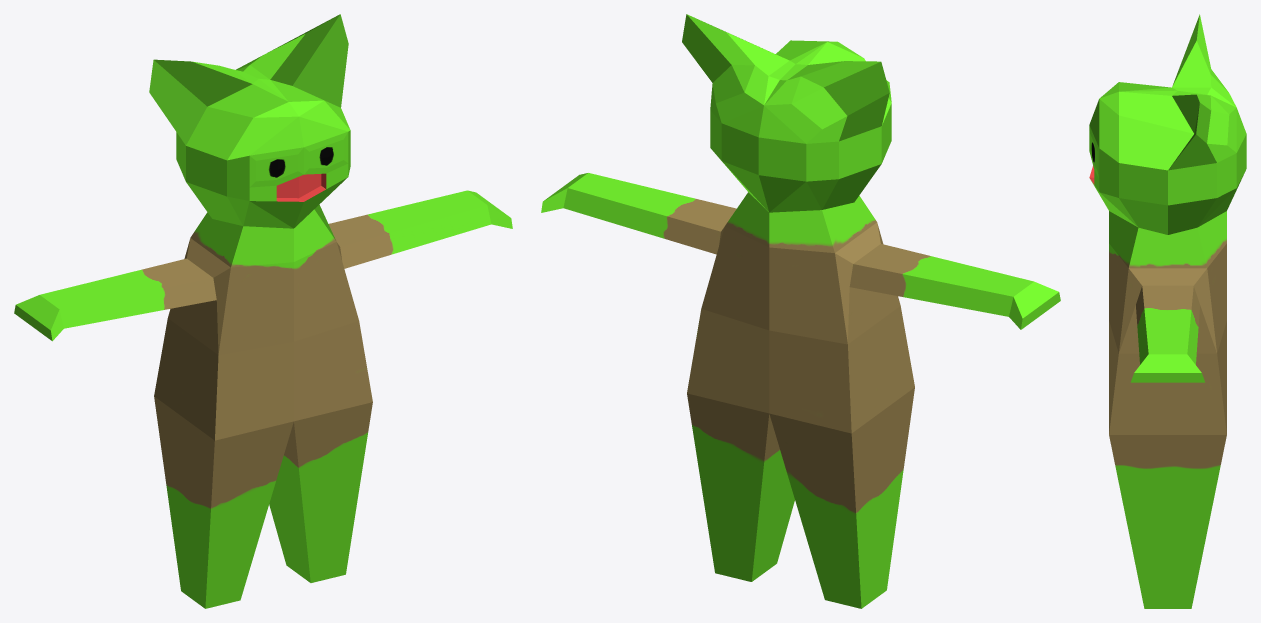
The model's file is Goblin.fbx.
3 views of the same model, side by side, from view 1: azimuth 30°, elevation 25°; view 2: azimuth 150°, elevation 25°; view 3: azimuth 270°, elevation 25° (orthographic). The views are drawn at different scales.
Parts seen in each view (by area): view 1: Cube; view 2: Cube; view 3: Cube.
Boxes of the visible parts, box(x1,y1,x2,y2) form: Cube: box(14, 14, 512, 608); Cube: box(541, 14, 1060, 608); Cube: box(1089, 14, 1246, 608).
Size of the model in its own units: 524 by 581 by 160.
